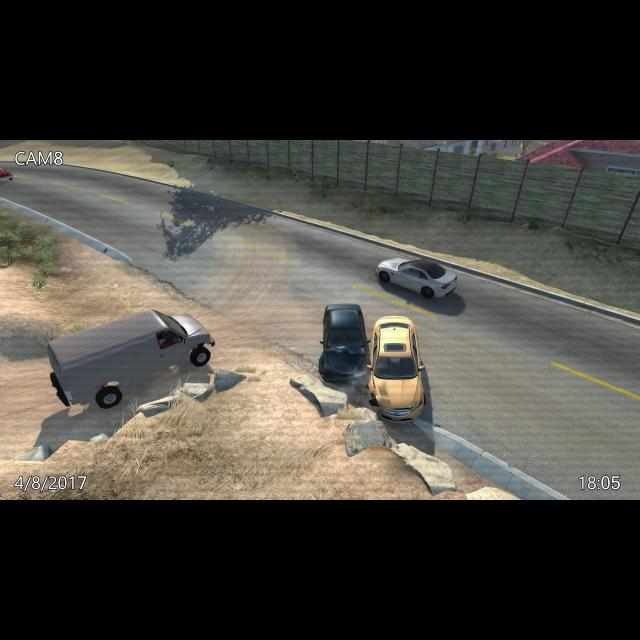accident: (314, 296, 431, 424)
